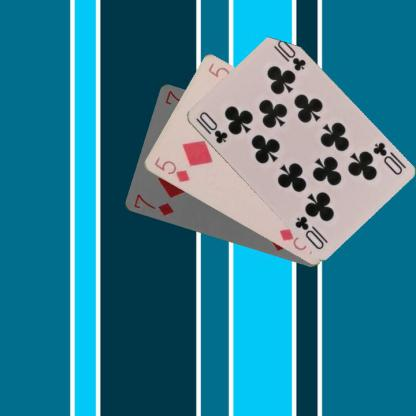10c: (370, 139, 403, 176), (196, 109, 229, 145)
5d: (151, 154, 192, 186)
7d: (130, 191, 174, 218)
